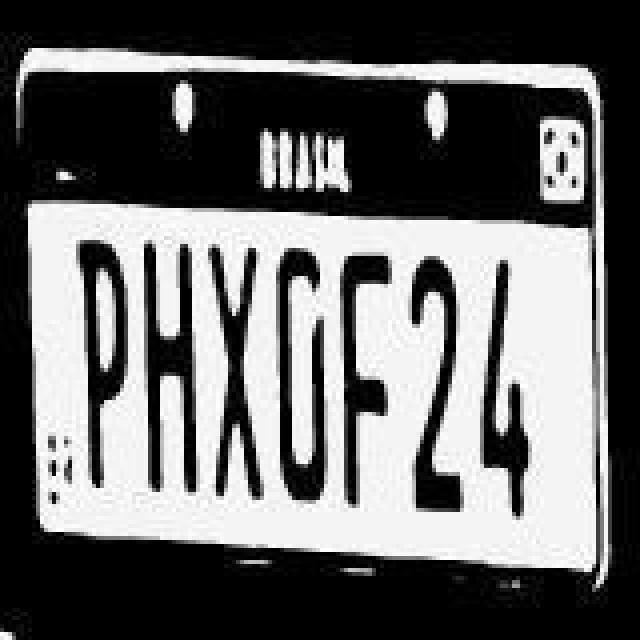2: (394, 258, 470, 518)
4: (472, 258, 536, 534)
D: (270, 244, 338, 508)
F: (324, 254, 396, 506)
H: (136, 236, 200, 516)
P: (68, 232, 124, 488)
X: (204, 240, 268, 504)
